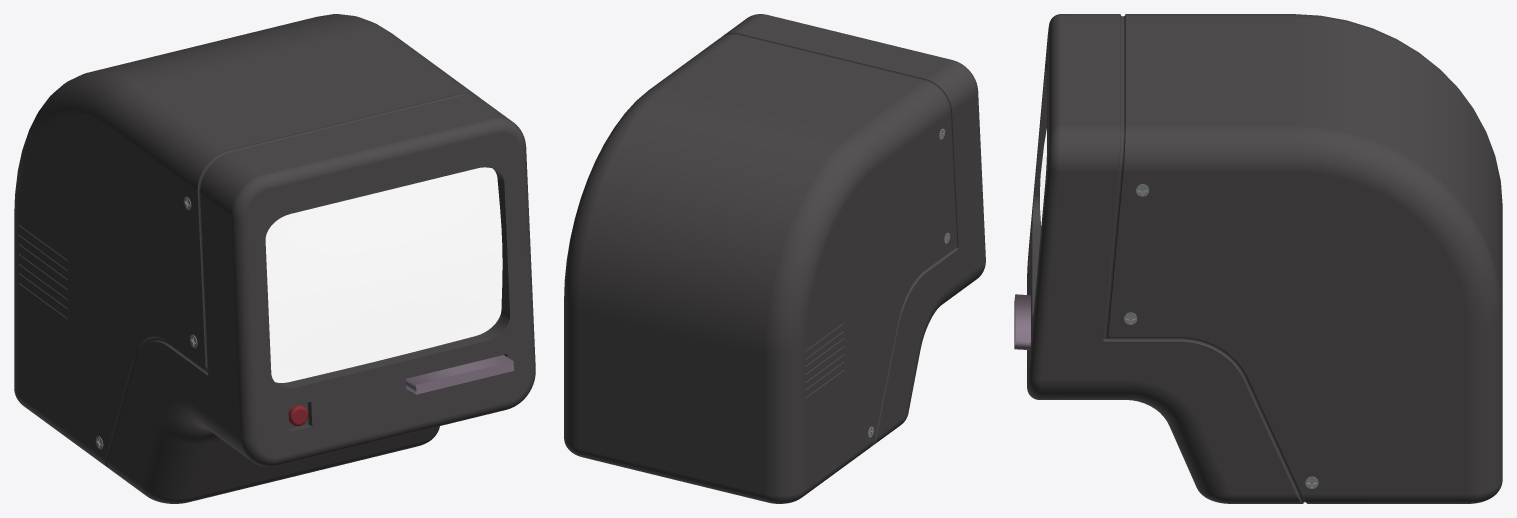
Rendered from tv+animation.glb.
The picture shows the model from 3 angles, left to right: view 1: azimuth 30°, elevation 25°; view 2: azimuth 150°, elevation 25°; view 3: azimuth 270°, elevation 25°; orthographic projection. The views are drawn at different scales.
Parts seen in each view (by area): view 1: Extruded.001; view 2: Extruded.001; view 3: Extruded.001.
Boxes of the visible parts, x1,y1,x2,y2 form: Extruded.001: [14, 14, 535, 503]; Extruded.001: [564, 14, 985, 503]; Extruded.001: [1014, 14, 1502, 503].
Bounding box in the file's own units: 4.02 × 5 × 5.99.
Materials: 5 (1 with a texture image).
